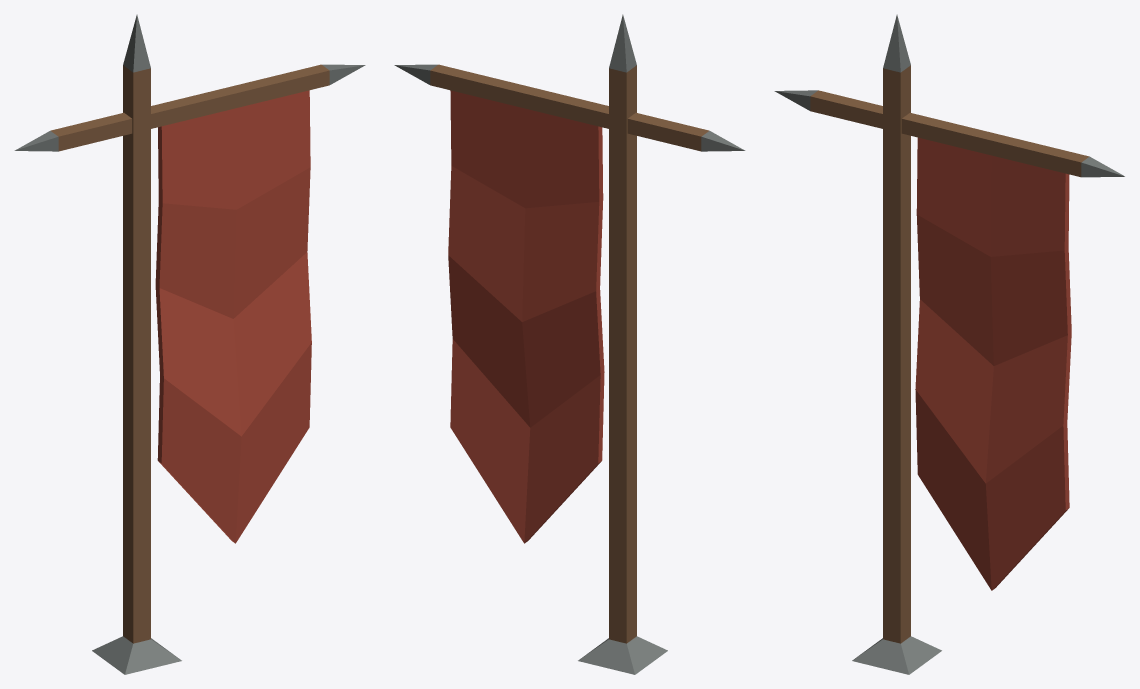
File: Banner_1_Red.fbx
The picture shows the model from 3 angles, left to right: view 1: azimuth 30°, elevation 25°; view 2: azimuth 150°, elevation 25°; view 3: azimuth 330°, elevation 25°; orthographic projection.
Visible parts, largest first — view 1: Banner_1_Red_Part_3, Banner_1_Red_Part_1, Banner_1_Red_Part_2; view 2: Banner_1_Red_Part_3, Banner_1_Red_Part_1, Banner_1_Red_Part_2; view 3: Banner_1_Red_Part_3, Banner_1_Red_Part_1, Banner_1_Red_Part_2.
Part boxes in pixels (x1,y1,x2,y2): Banner_1_Red_Part_3: (155, 90, 311, 543); Banner_1_Red_Part_1: (50, 64, 329, 643); Banner_1_Red_Part_2: (14, 14, 365, 674); Banner_1_Red_Part_3: (448, 90, 604, 543); Banner_1_Red_Part_1: (430, 64, 709, 643); Banner_1_Red_Part_2: (394, 14, 745, 674); Banner_1_Red_Part_3: (915, 137, 1071, 590); Banner_1_Red_Part_1: (810, 65, 1089, 643); Banner_1_Red_Part_2: (774, 14, 1124, 674).
Size of the model in its own units: 172 by 300 by 28.14.
